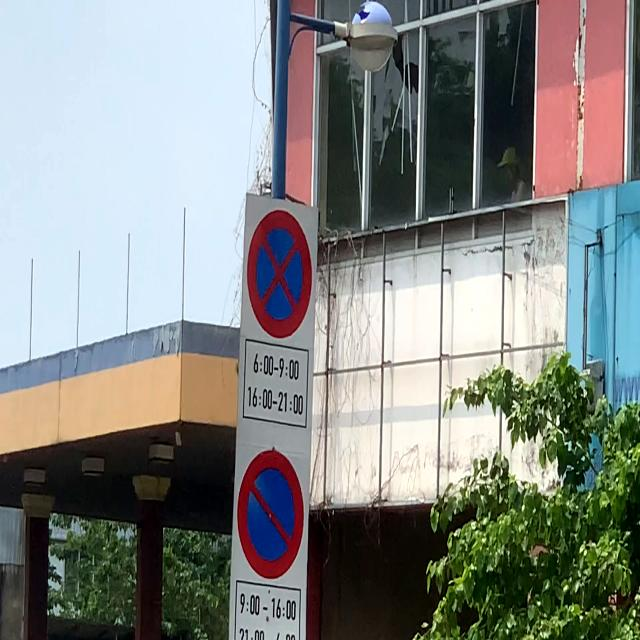P.130: (247, 209, 313, 340)
P.131a: (237, 450, 304, 579)
